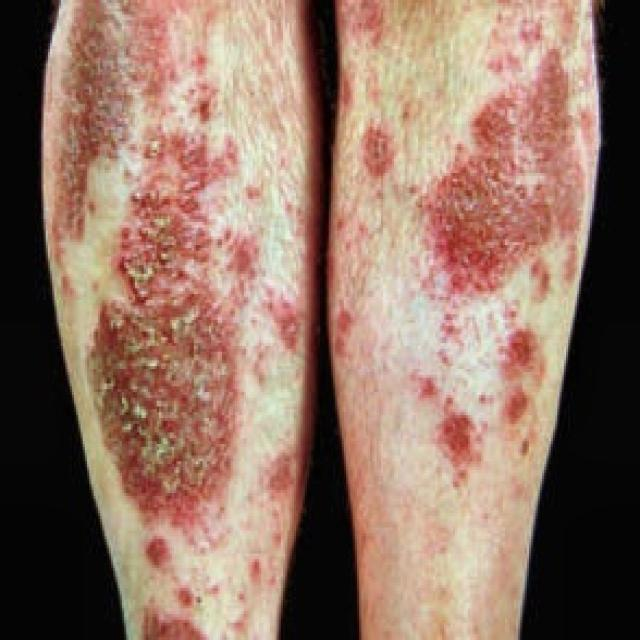Atopic-Dermatitis: (44, 2, 323, 636), (329, 6, 594, 636)
